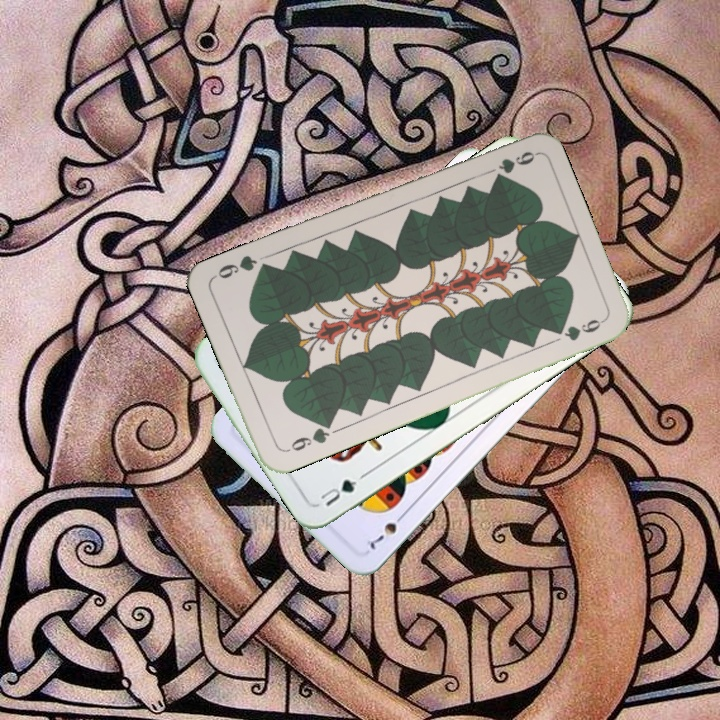G9: (281, 418, 335, 456), (494, 147, 538, 175)
GU: (316, 470, 368, 510)
S7: (362, 507, 409, 553)
